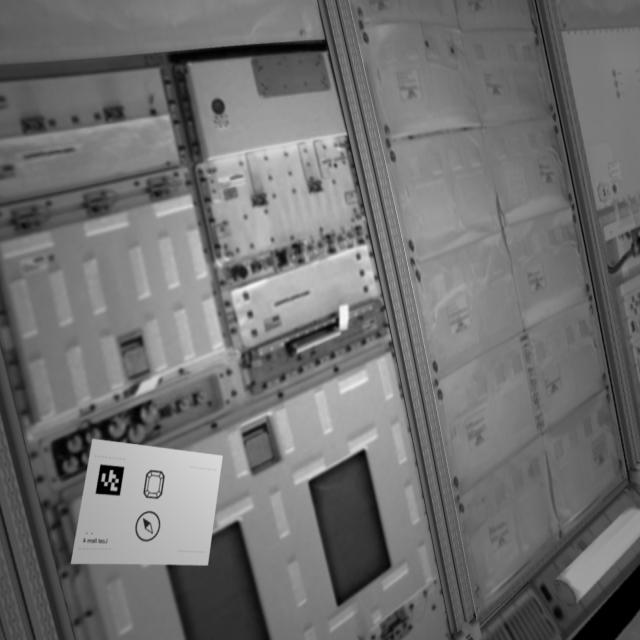compass: (132, 508, 167, 547)
emerald: (141, 467, 172, 504)
